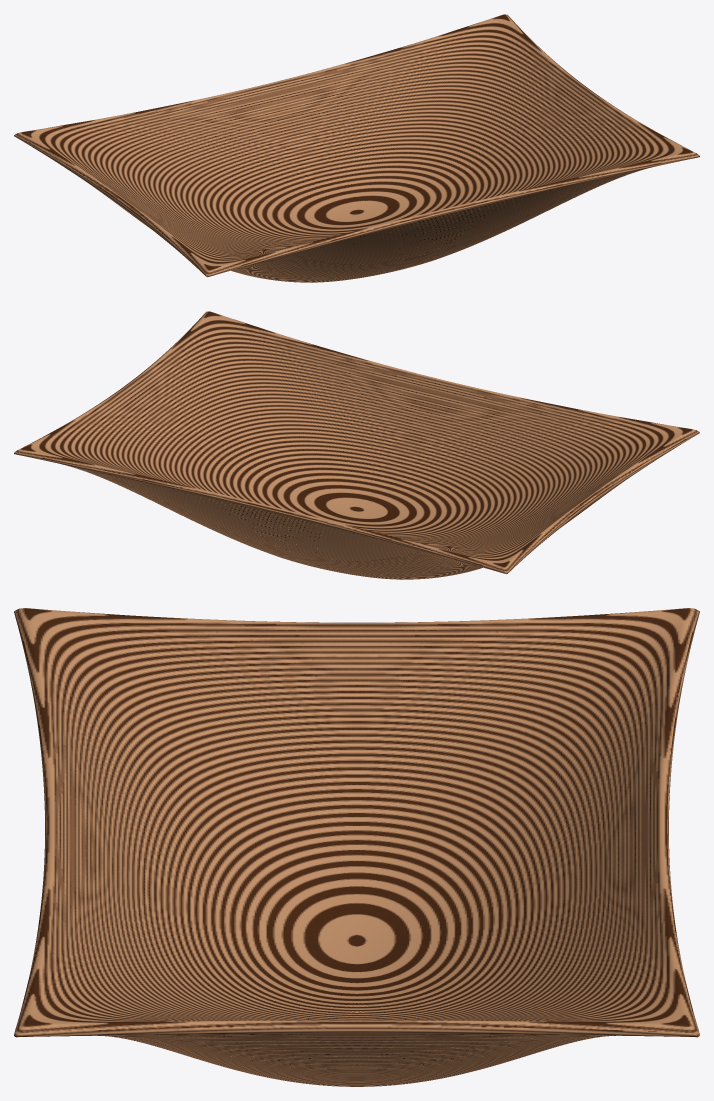
The model's file is Заготовка.glb.
The picture shows the model from 3 angles, top to bottom: view 1: azimuth 30°, elevation 25°; view 2: azimuth 150°, elevation 25°; view 3: azimuth 270°, elevation 25°; orthographic projection. The views are drawn at different scales.
Visible parts, largest first — view 1: Solid_3.001; view 2: Solid_3.001; view 3: Solid_3.001.
Boxes of the visible parts, x1,y1,x2,y2 form: Solid_3.001: (14, 14, 699, 282); Solid_3.001: (14, 311, 699, 579); Solid_3.001: (14, 608, 699, 1086).
Bounding box in the file's own units: 562 × 105 × 382.
Materials: 1 (1 with a texture image).
